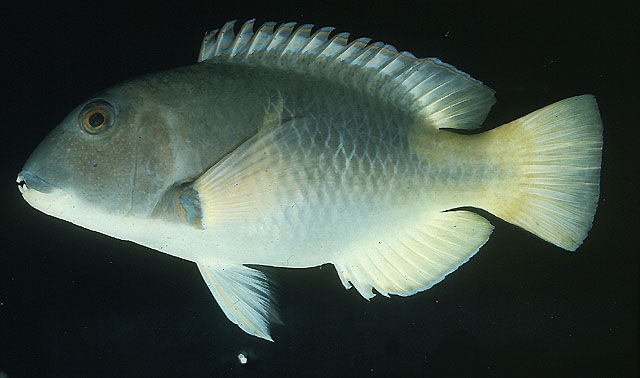fish: (17, 19, 605, 345)
